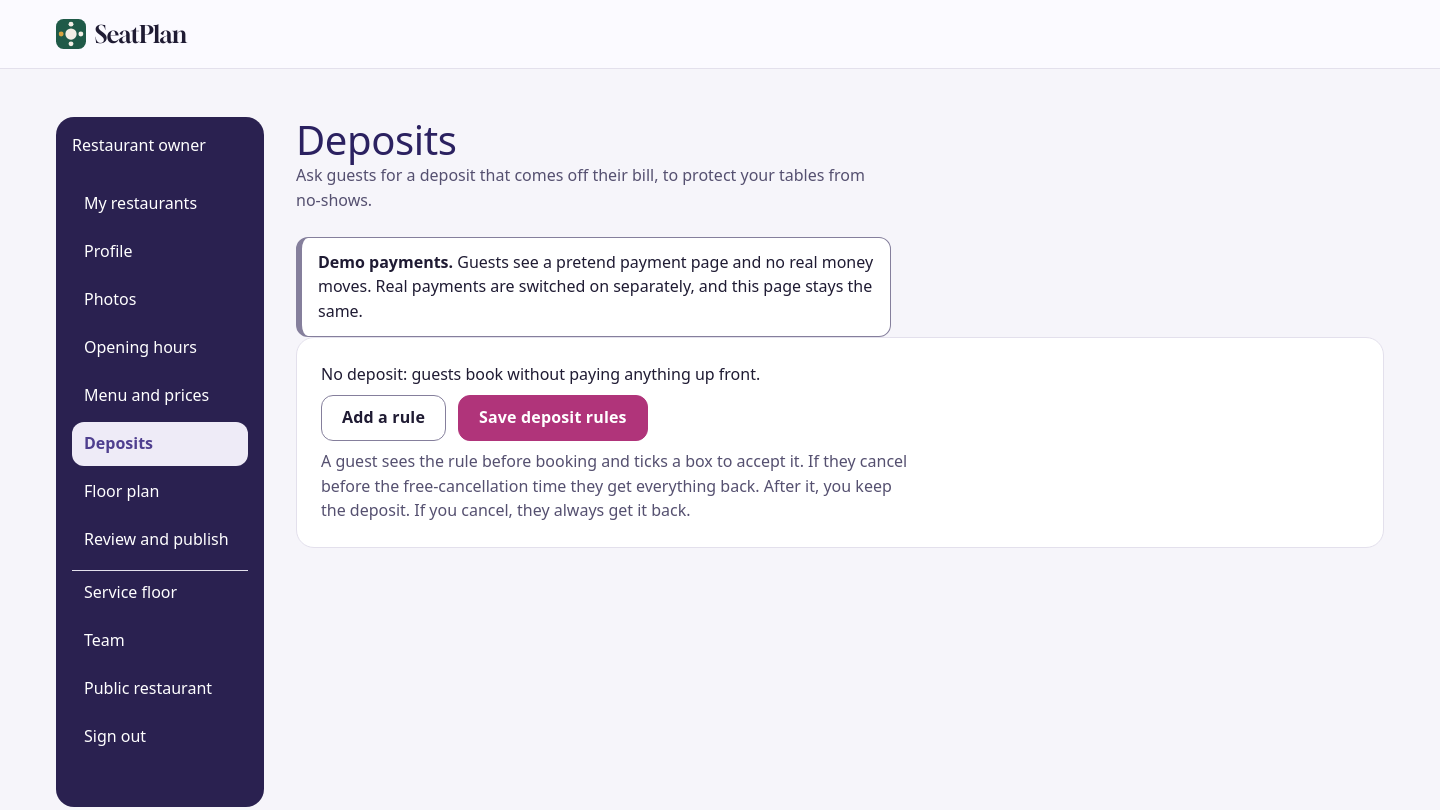
Scenario: the deposits page › does not send a rule with a bad amount, and says why next to it
Click the button "Add a rule": [384, 418] box [321,395,446,441]
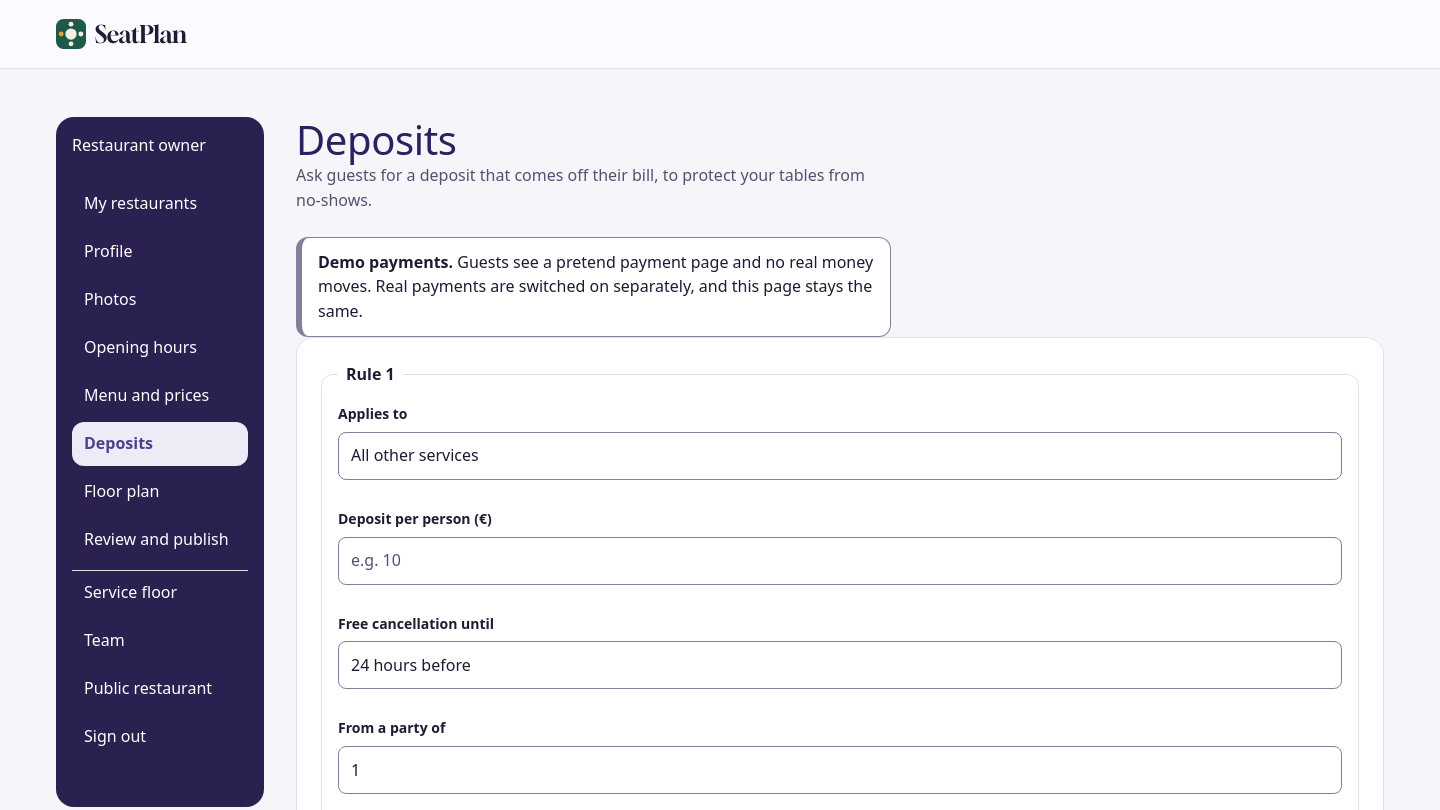
In the field labelled "Deposit per person (€)": [840, 560] box [338,536,1342,584], type "lots"
(page scrolled)
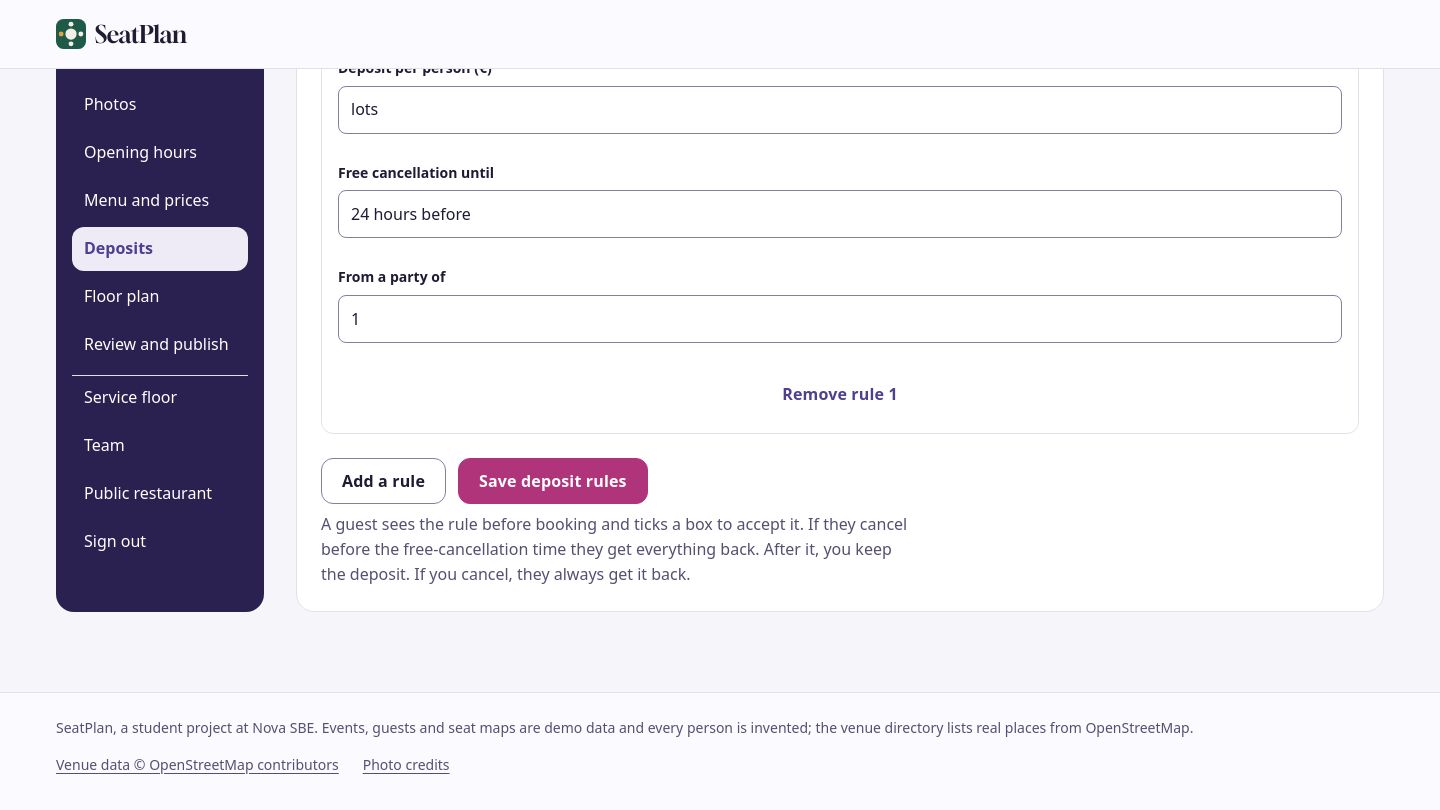
Click the button "Save deposit rules": [553, 481] box [458,458,648,504]
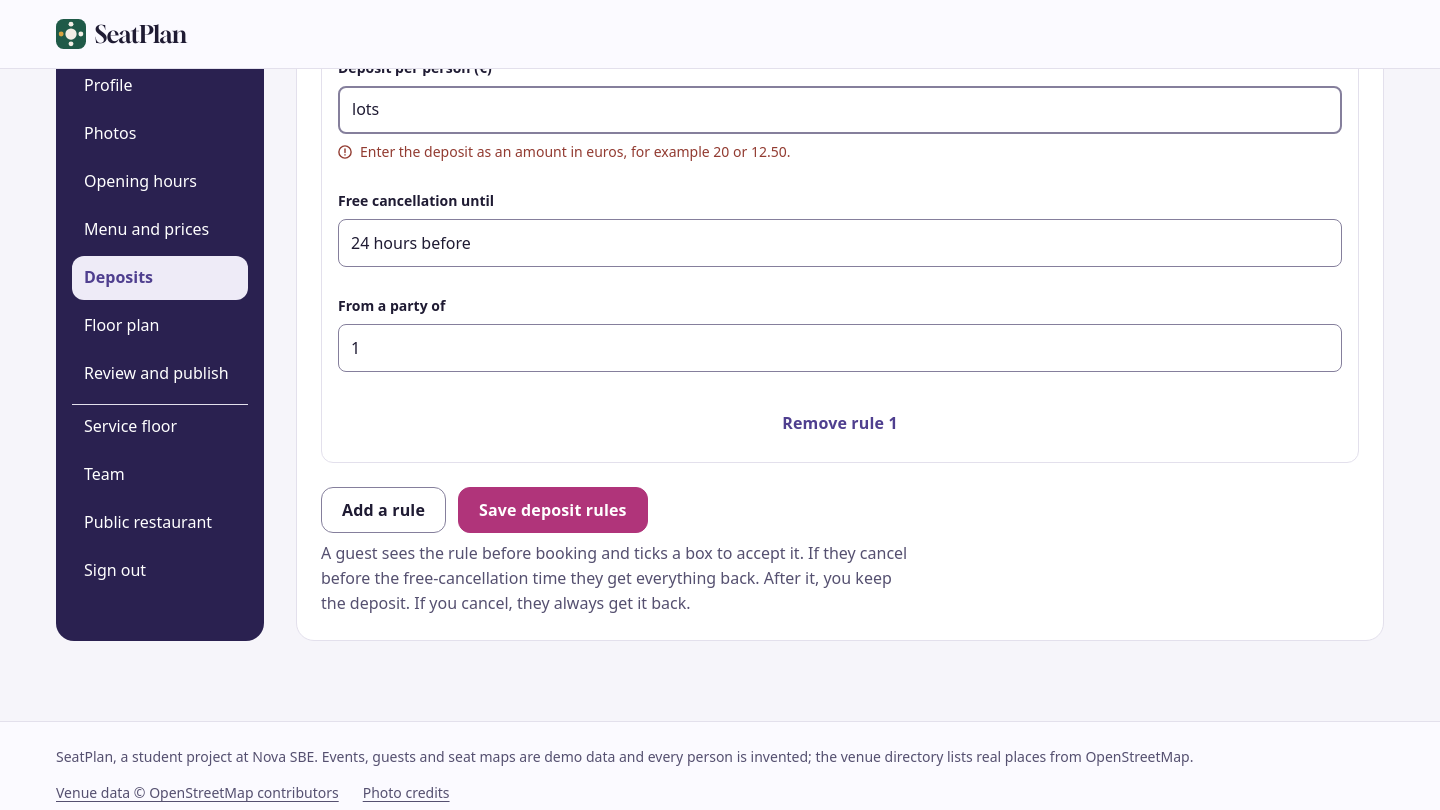
Now the text "Enter the deposit as an amount in euros" is shown, box [360,142,790,161]
